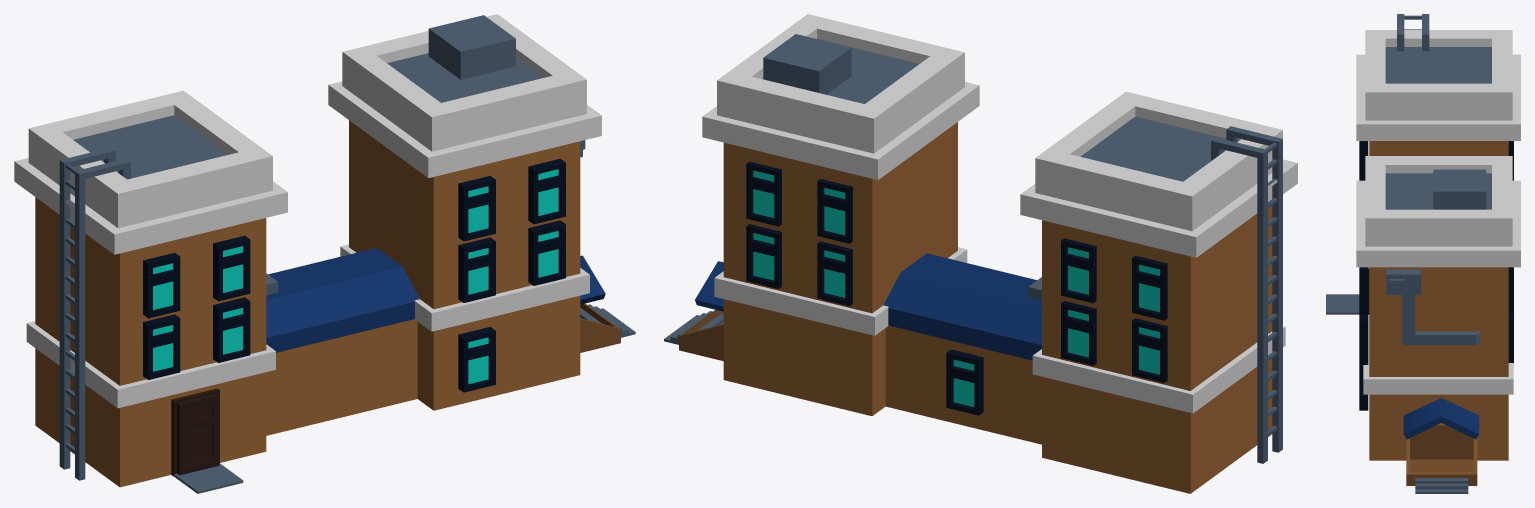
The model's file is TownHouse_10.fbx.
3 renders of one model, left to right at view 1: azimuth 30°, elevation 25°; view 2: azimuth 150°, elevation 25°; view 3: azimuth 270°, elevation 25°, orthographic. The views are drawn at different scales.
Visible parts, largest first — view 1: TownHouse_10; view 2: TownHouse_10; view 3: TownHouse_10.
Boxes of the visible parts, bbox=[...] form: TownHouse_10: bbox=[14, 14, 635, 493]; TownHouse_10: bbox=[664, 14, 1297, 493]; TownHouse_10: bbox=[1326, 14, 1520, 493].
Size of the model in its own units: 78.17 by 41.37 by 28.24.
